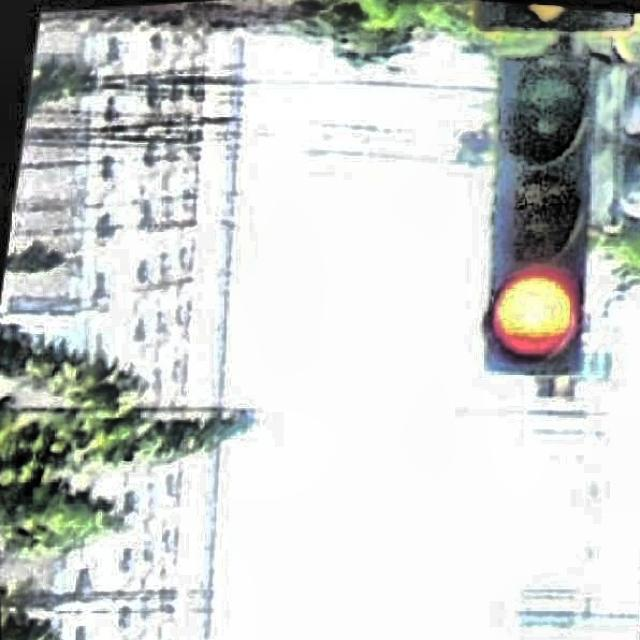red: (472, 41, 590, 373)
